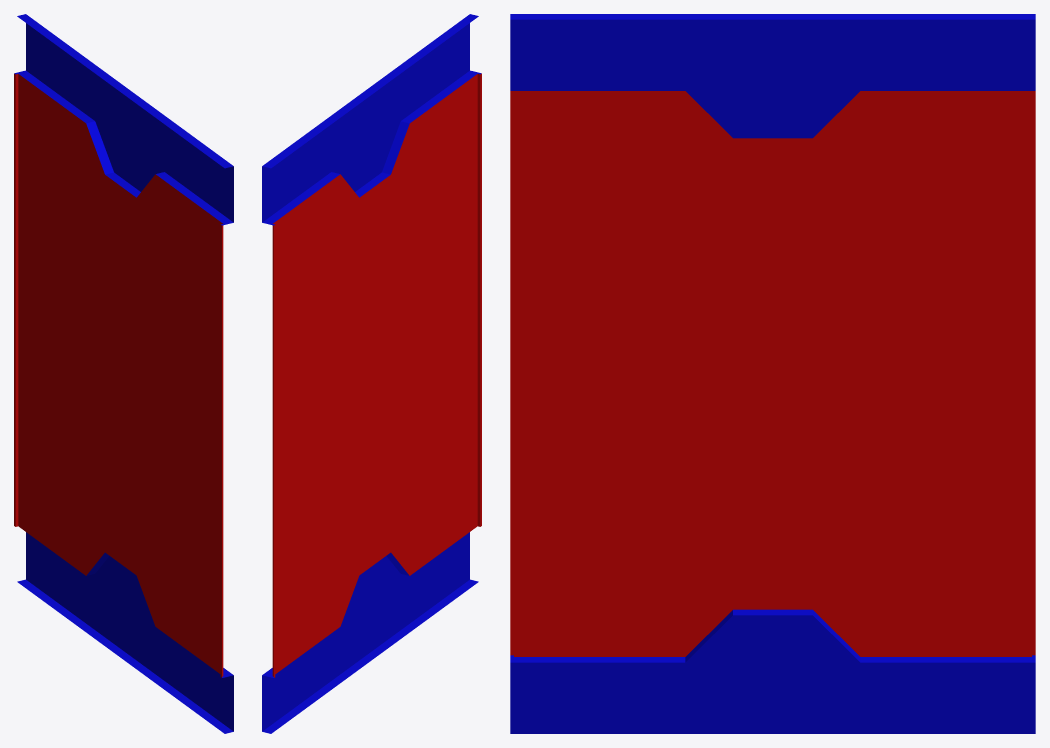
File: block1.fbx
3 renders of one model, left to right at view 1: azimuth 30°, elevation 25°; view 2: azimuth 150°, elevation 25°; view 3: azimuth 270°, elevation 25°, orthographic. The views are drawn at different scales.
Parts seen in each view (by area): view 1: muro_block1; view 2: muro_block1; view 3: muro_block1.
Boxes of the visible parts, box(x1,y1,x2,y2) form: muro_block1: box(14, 14, 233, 733); muro_block1: box(262, 14, 481, 733); muro_block1: box(510, 14, 1035, 733).
Size of the model in its own units: 6.58 by 300 by 200.
